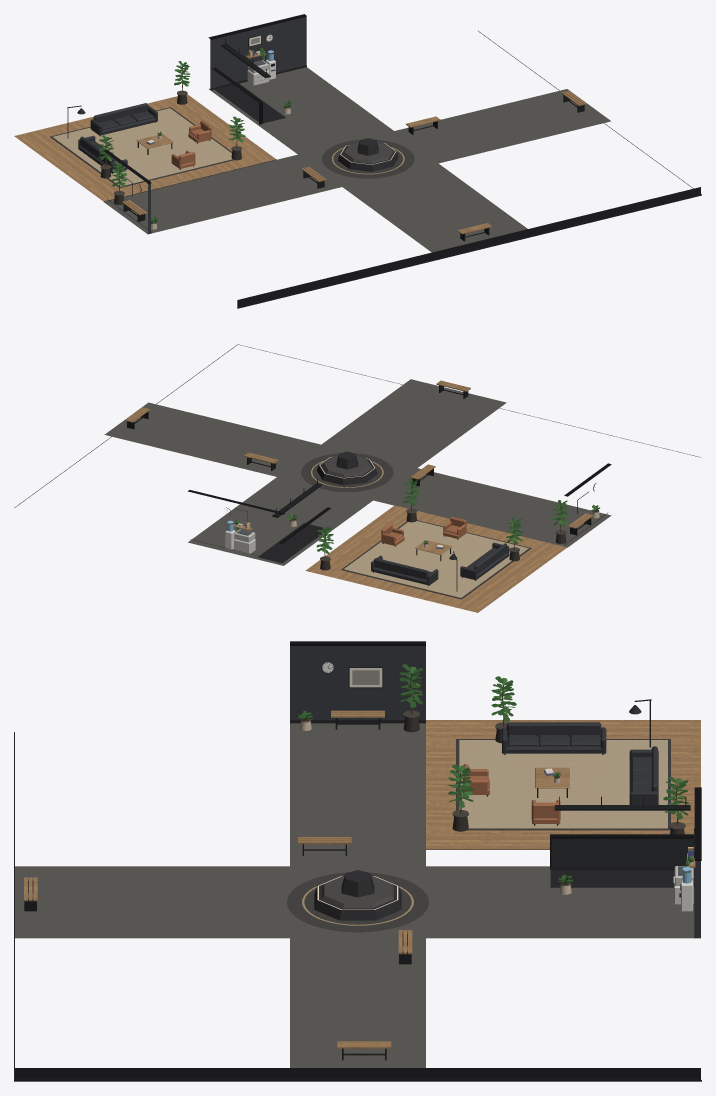
Rendered from atrium.gltf.
3 views of the same model, one above another, from view 1: azimuth 30°, elevation 25°; view 2: azimuth 150°, elevation 25°; view 3: azimuth 270°, elevation 25° (orthographic). The views are drawn at different scales.
Visible parts, largest first — view 1: room_atrium, room_lounge; view 2: room_atrium, room_lounge; view 3: room_atrium, room_lounge.
Boxes of the visible parts, <box> form: room_atrium: <box>103,14,701,308</box>; room_lounge: <box>14,61,276,201</box>; room_atrium: <box>14,344,701,565</box>; room_lounge: <box>305,479,566,612</box>; room_atrium: <box>14,641,701,1081</box>; room_lounge: <box>426,676,700,849</box>.
Size of the model in its own units: 26.06 by 3.21 by 21.76.
Materials: 18 (4 with a texture image).
